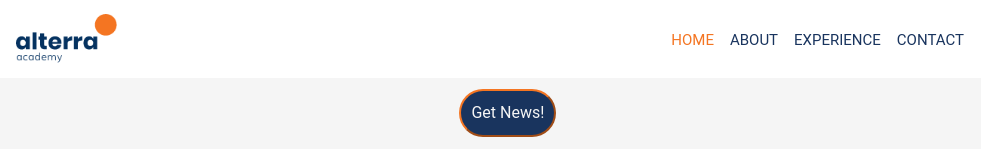
Test: News testing › tes jika gagal
The image size is (981, 160).
Click the button at point(508, 113), box [459, 89, 556, 137]
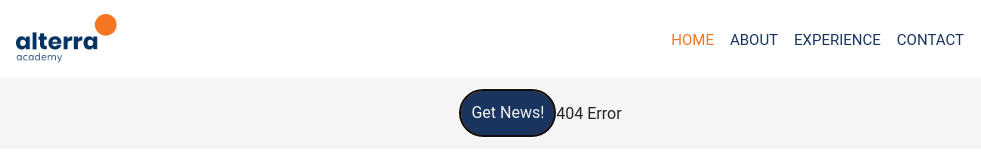
Result: the text "404 Error" is shown at [556, 103, 622, 122]
